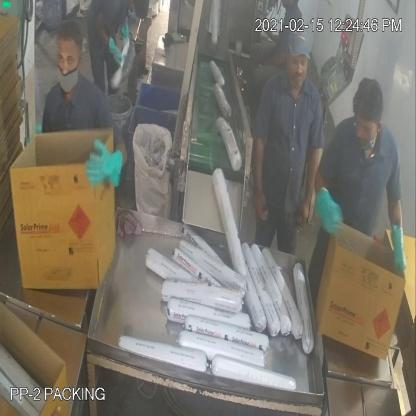glove: (78, 128, 127, 202), (314, 178, 347, 246), (385, 210, 410, 291)
no_glove: (248, 122, 277, 233), (294, 130, 323, 237)
